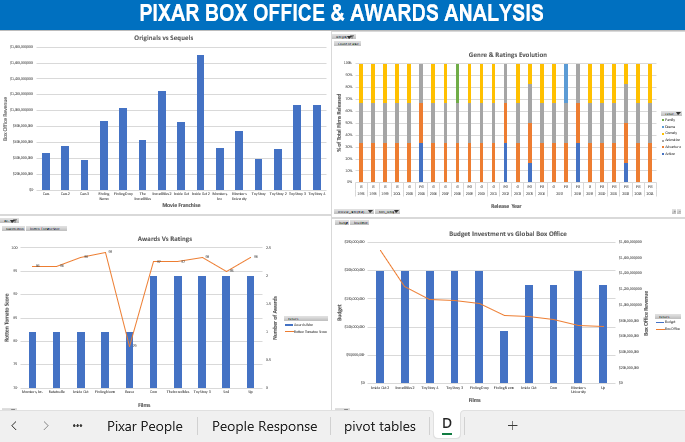

What the dashboard file says about the page in this screenshot:
{"tool":"powerbi","page":{"name":"Page 1","canvas":[1280,720],"ordinal":0},"visuals":[{"type":"clusteredColumnChart","title":"Best Performing Films at The Global Box Office Compared to Their Budgets","fields":{"Category":["box_office.film"],"Y":["Sum(box_office.budget)","Sum(box_office.box_office_worldwide)"]},"box":[0,0,640,340],"z":0},{"type":"lineClusteredColumnComboChart","title":"Films With The Most Awards Compared To Their Rotten Tomato Score","fields":{"Category":["public_response.film"],"Y":["CountNonNull(academy.status)"],"Y2":["Sum(public_response.rotten_tomatoes_score)"]},"box":[640,0,640,360],"z":1000},{"type":"columnChart","title":"Sequels Compared to Their Originals","fields":{"Category":["box_office.film (groups)","box_office.film"],"Y":["Sum(box_office.box_office_worldwide)"],"Series":["box_office.film (groups)"]},"box":[0,360,576.7,360],"z":2000},{"type":"hundredPercentStackedColumnChart","title":"Pixar Genre Trends Over Time (With film Ratings)","fields":{"Category":["pixar_films.release_date.Variation.Date Hierarchy.Year"],"Series":["genres.value"],"Y":["CountNonNull(genres.value)"]},"box":[640,360,640,360],"z":5000}]}

Visuals, with their boxes on the page's 1280x720 design canvas (x1, y1, x2, y2). These are canvas units, not pixel positions in the 685x442 screenshot, which may show the page scaled, cropped or inside an application window:
"Best Performing Films at The Global Box Office Compared to Their Budgets" clusteredColumnChart: [0,0,640,340]
"Films With The Most Awards Compared To Their Rotten Tomato Score" lineClusteredColumnComboChart: [640,0,1280,360]
"Sequels Compared to Their Originals" columnChart: [0,360,577,720]
"Pixar Genre Trends Over Time (With film Ratings)" hundredPercentStackedColumnChart: [640,360,1280,720]
